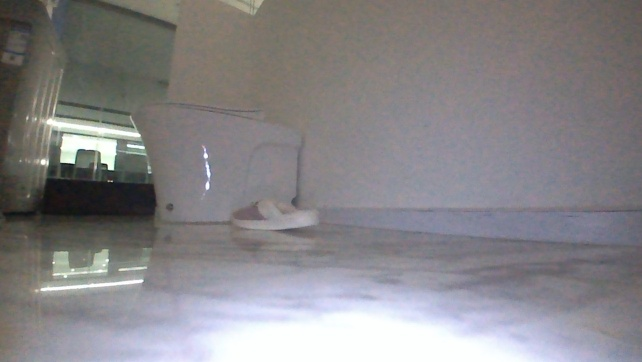shoe: (230, 195, 321, 231)
toilet: (130, 96, 303, 224)
